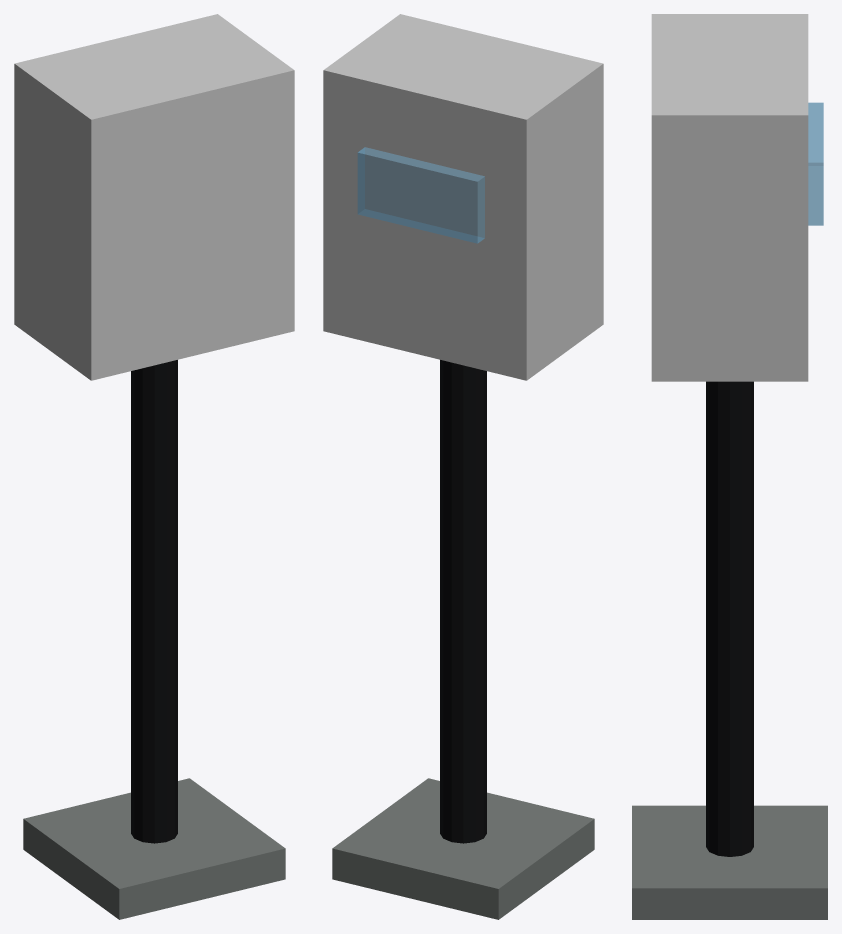
The model's file is parking_meter.obj.
3 renders of one model, left to right at view 1: azimuth 30°, elevation 25°; view 2: azimuth 150°, elevation 25°; view 3: azimuth 270°, elevation 25°, orthographic. The views are drawn at different scales.
Parts seen in each view (by area): view 1: parking_meter; view 2: parking_meter; view 3: parking_meter.
Part boxes in pixels (x1,y1,x2,y2): parking_meter: (14,14,294,919); parking_meter: (323,14,603,919); parking_meter: (632,14,827,919).
Bounding box in the file's own units: 1.1 × 4.12 × 0.9.
